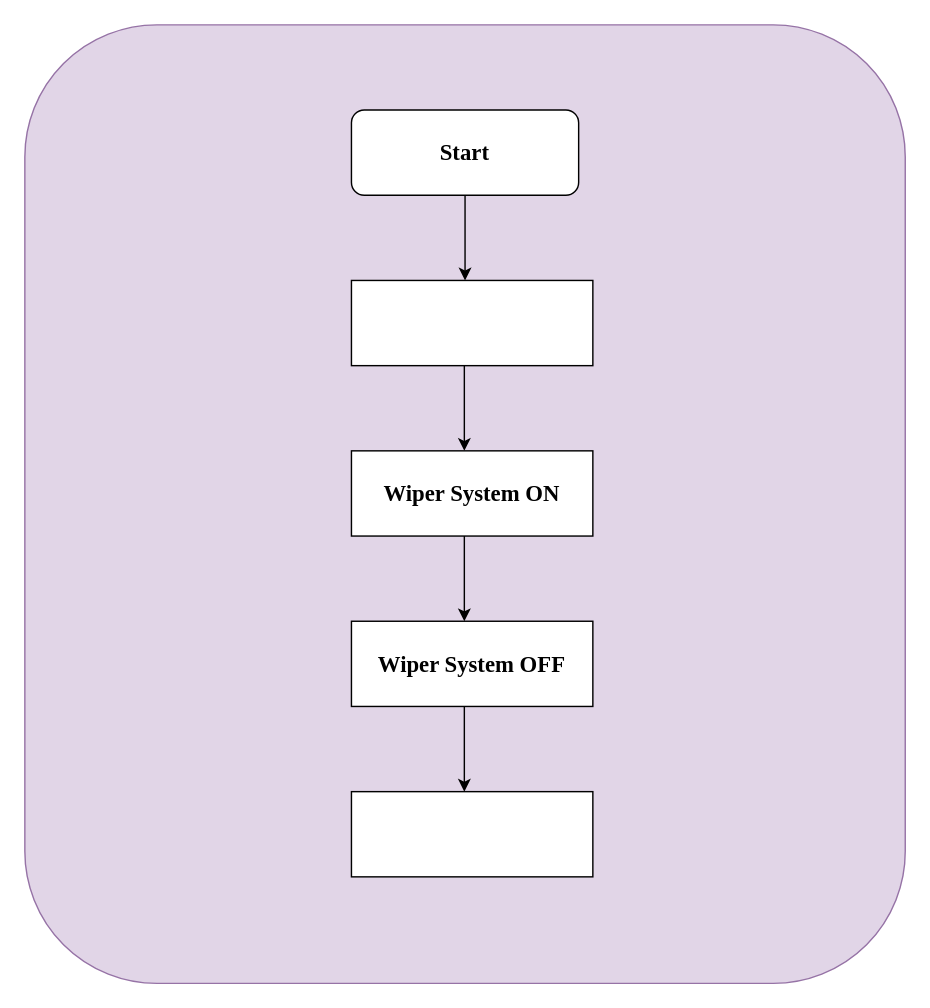
The diagram is 930 pixels wide and 1008 high, and some of its shapes have lost their labels. Here are the shapes that lost their labels. From the top down, the centre of each, then its label:
pixel 471 322: Engine is ON(Ignition Key Position is at ACC)
pixel 471 833: Engine is OFF(Ignition Key Position is at LOCK)
